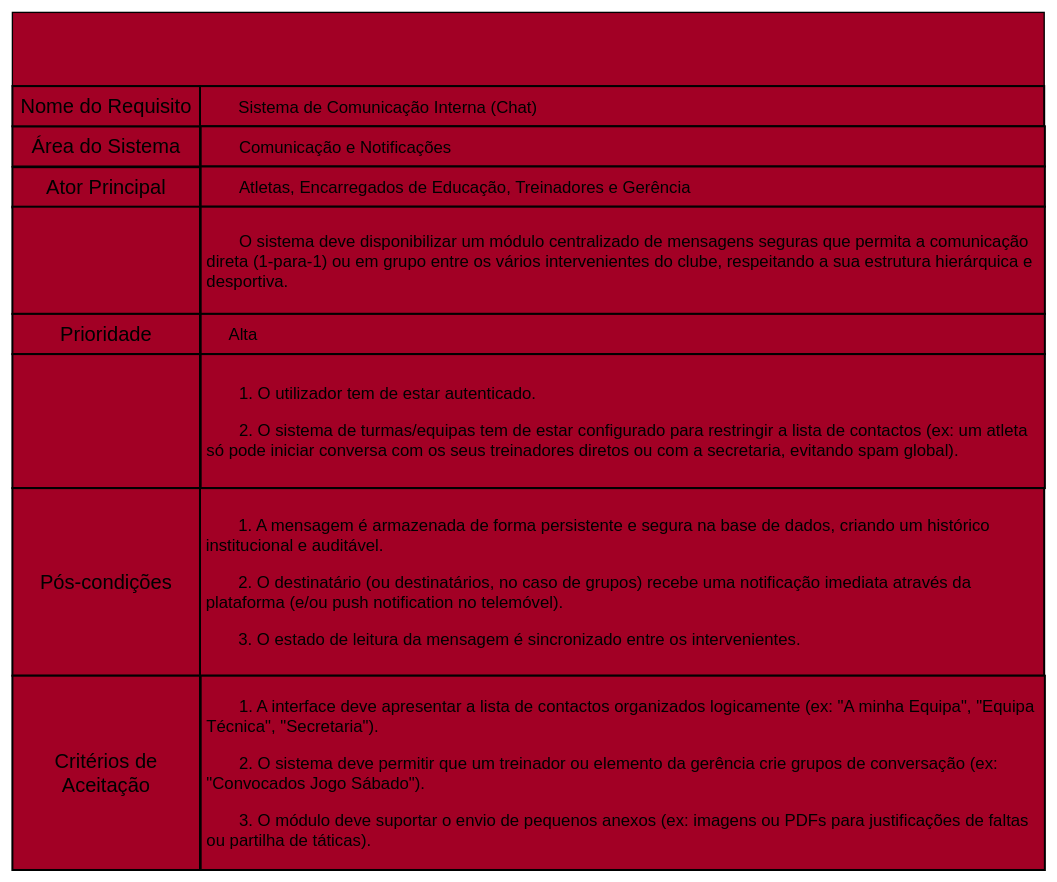
The diagram is 1057 pixels wide and 882 high, and some of its shapes have lost their labels. The shapes that lost their labels are listed below. From the top down, each one's centre as x and y in pixels, then its label:
the point at 528,48: RF-03
the point at 106,260: Descrição
the point at 106,421: Pré-condições
